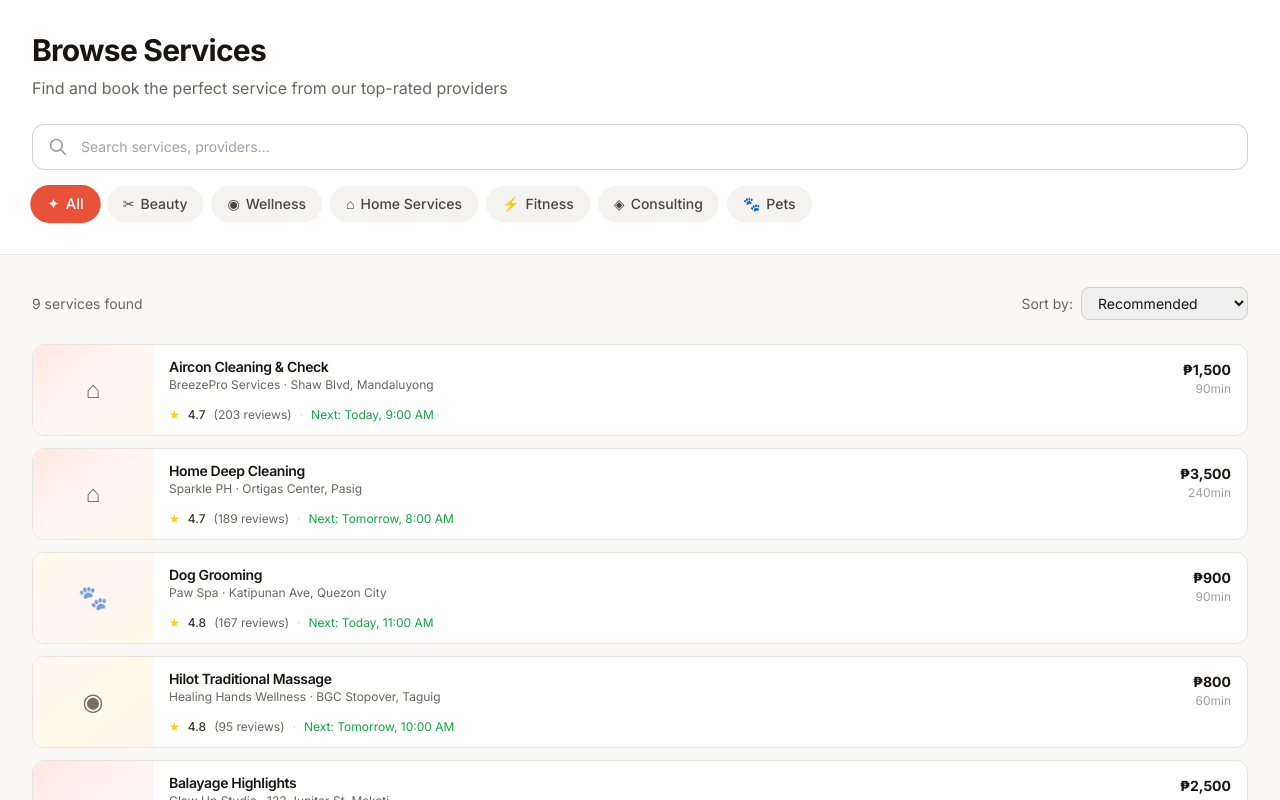
Test case: Services Page › category filter works
Expected: the heading "Balayage Highlights" is shown, x1=169 y1=774 x2=296 y2=791
Click the button "⚡ Fitness". click: (538, 204)
box: x1=486 y1=186 x2=590 y2=222
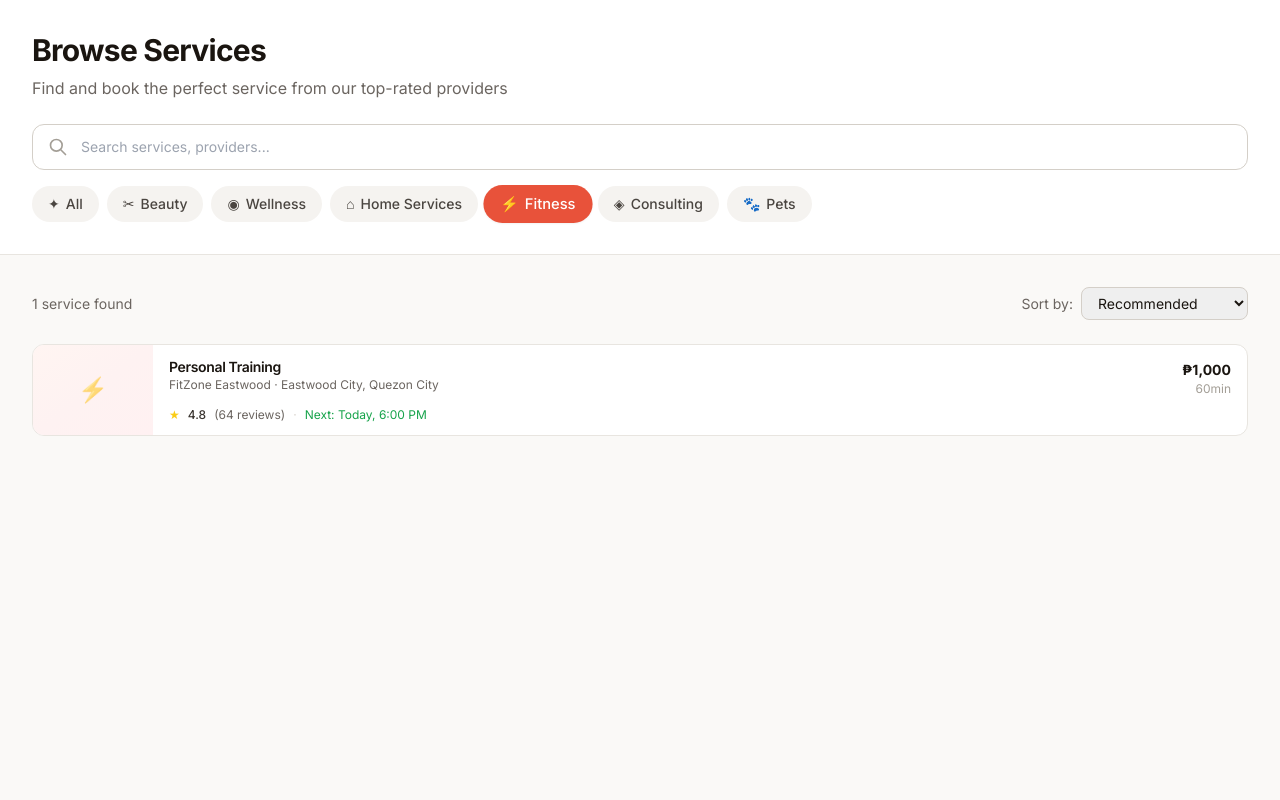
Expected: the heading "Personal Training" is shown, x1=169 y1=358 x2=281 y2=375
Now the link "Balayage Highlights" is gone
